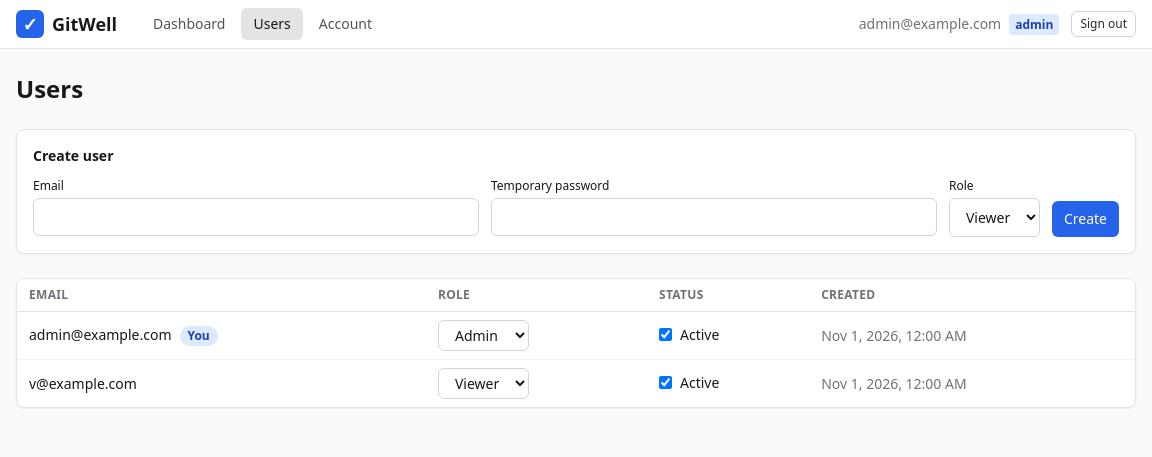
Test: users page › creates a user and validates the form first
Expected: the text "v@example.com" is shown, [17, 360, 426, 407]
Click the button "Create": (1085, 219) [1052, 201, 1119, 237]
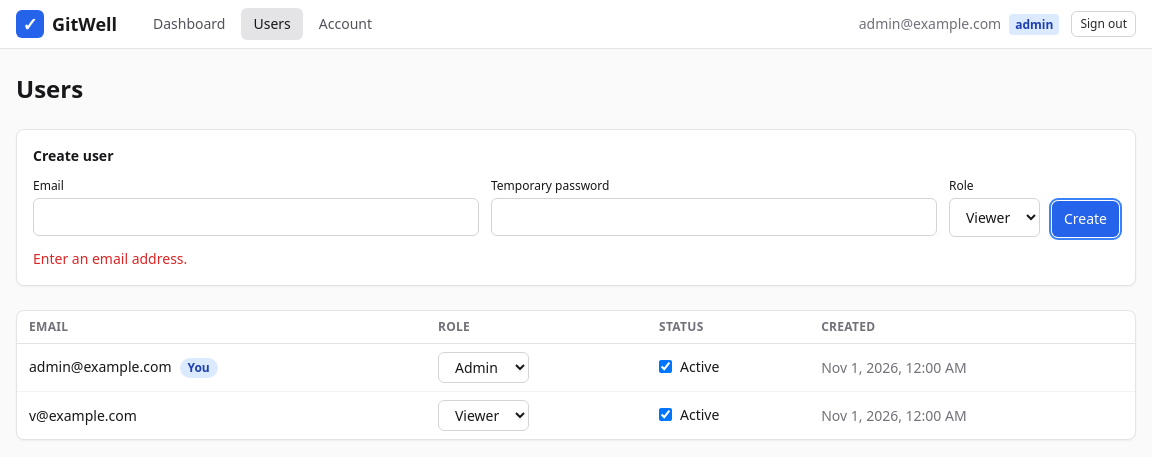
Expected: the message reads "Enter an email address.", [33, 249, 187, 268]
In the field labelled "Email": (256, 217) [33, 198, 479, 236], type "n@example.com"
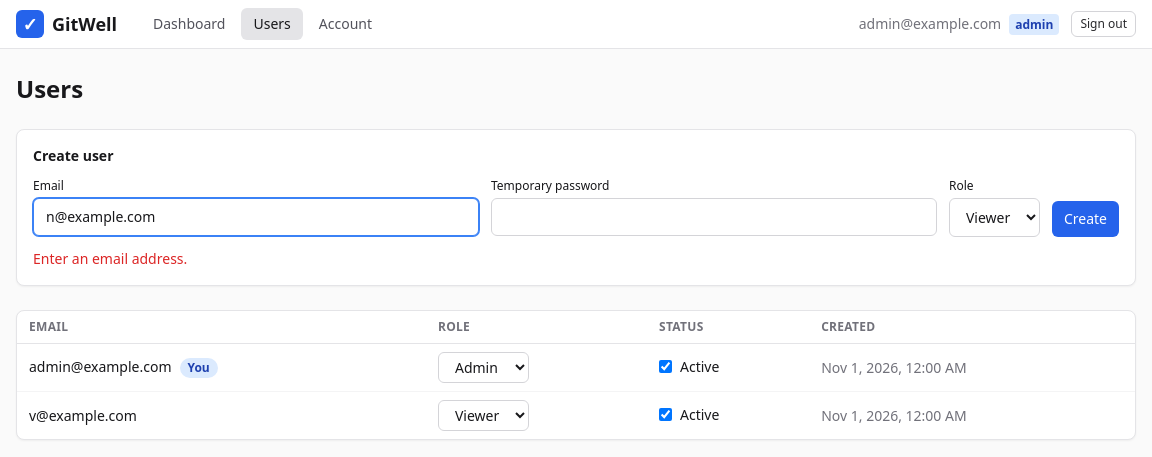
In the password field labelled "Temporary password": (714, 217) [491, 198, 937, 236], type "short"
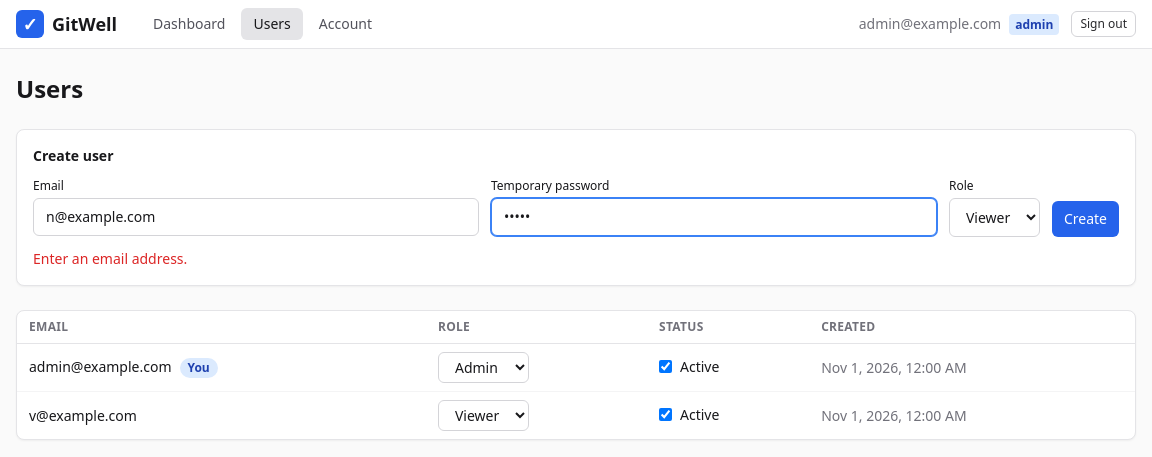
Click the button "Create": (1085, 219) [1052, 201, 1119, 237]
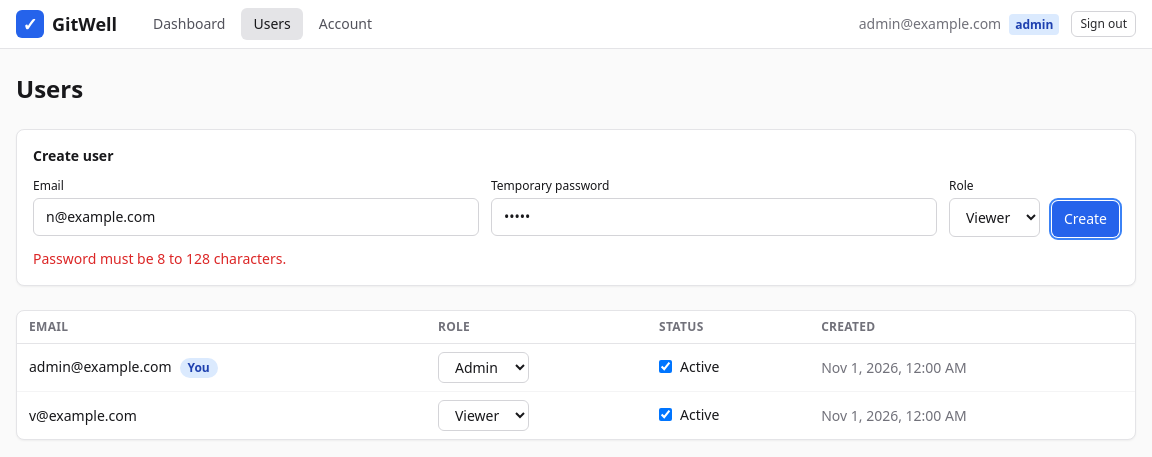
Expected: the message reads "Password must be 8 to 128 characters.", [33, 249, 286, 268]
In the password field labelled "Temporary password": (714, 217) [491, 198, 937, 236], type "test-long-enough-1"
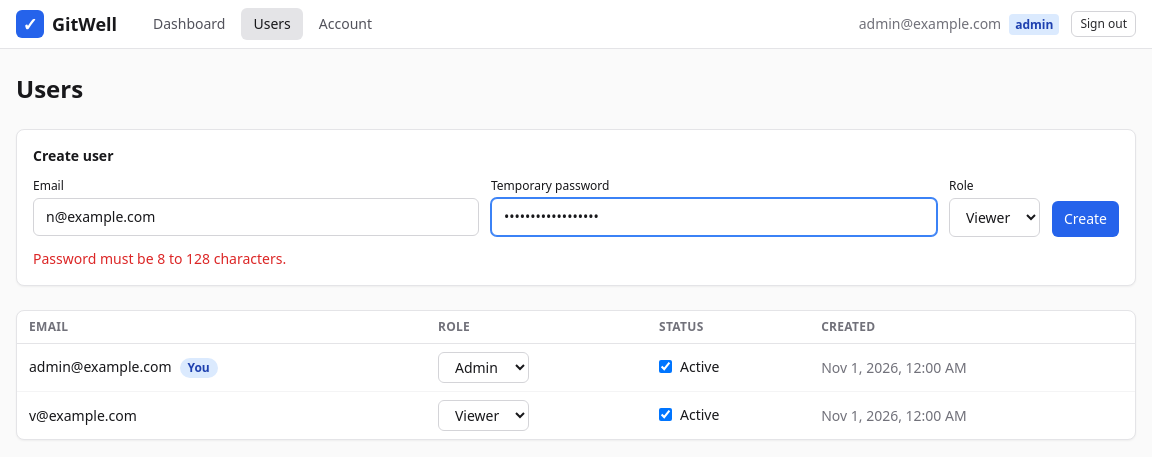
Click the button "Create": (1085, 219) [1052, 201, 1119, 237]
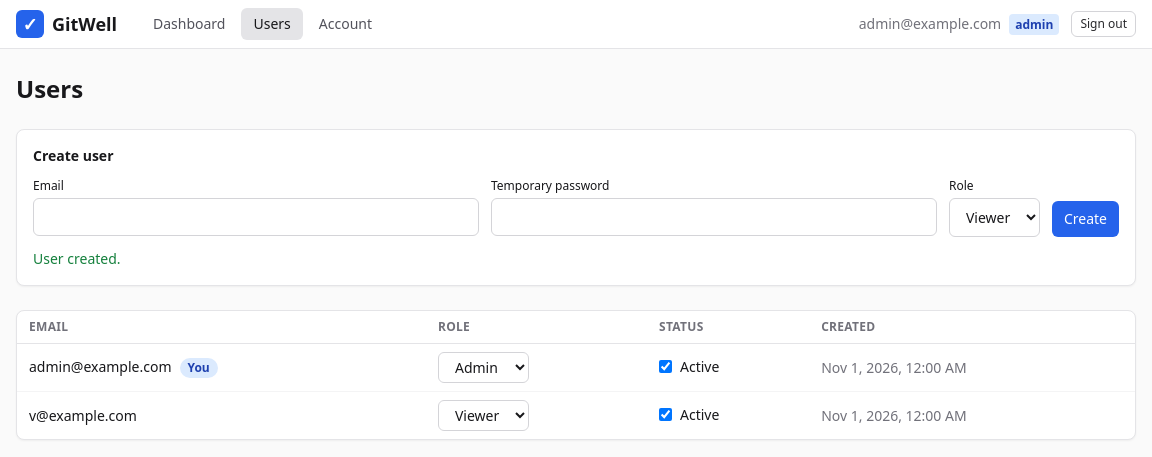
Expected: the text "User created." is shown, [33, 249, 120, 268]
